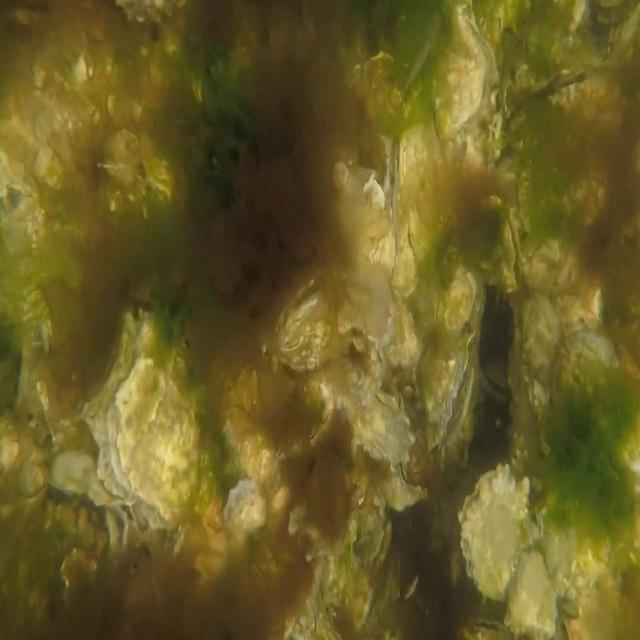Oyster-Closed: (535, 485, 623, 614), (423, 332, 477, 455), (339, 378, 413, 464), (383, 458, 428, 510)
Oyster-Indeterminate: (107, 353, 199, 524), (552, 324, 640, 474), (458, 463, 532, 598), (425, 0, 487, 144), (520, 290, 565, 458), (273, 283, 357, 372), (402, 124, 451, 274), (389, 172, 417, 300), (444, 263, 483, 341), (224, 477, 267, 539)
Oyster-Open: (531, 63, 612, 113), (498, 220, 522, 295)
